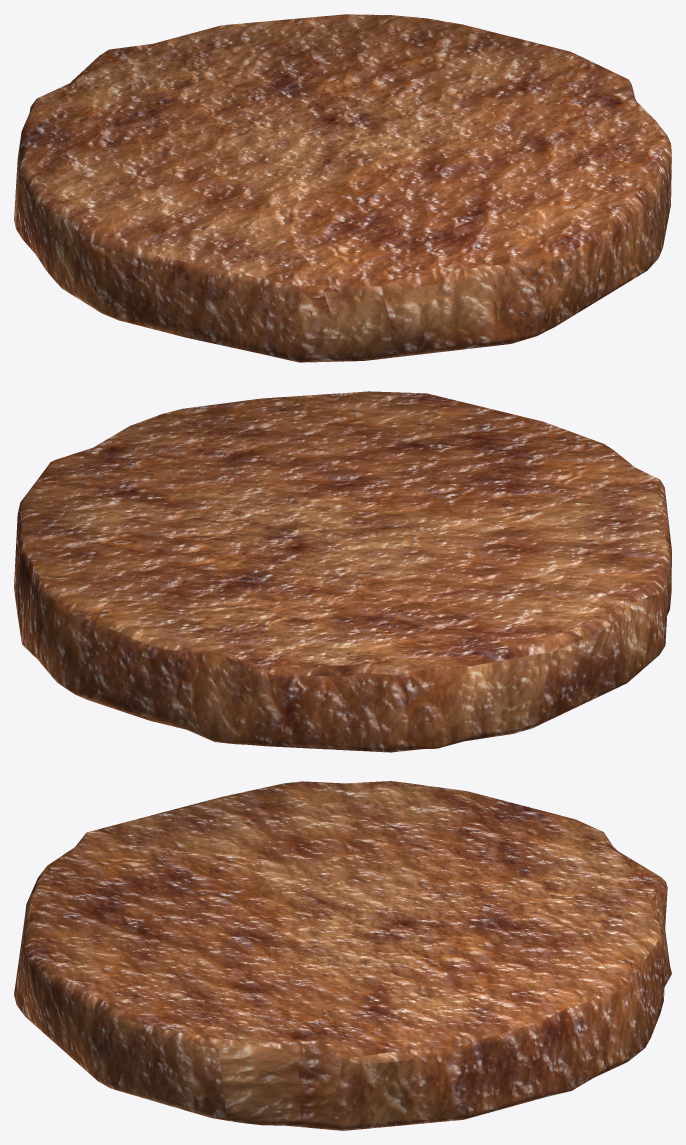
File: hamburguesa_carne.fbx
3 views of the same model, one above another, from view 1: azimuth 30°, elevation 25°; view 2: azimuth 150°, elevation 25°; view 3: azimuth 270°, elevation 25° (orthographic). The views are drawn at different scales.
Parts seen in each view (by area): view 1: Carne; view 2: Carne; view 3: Carne.
Part boxes in pixels (x1,y1,x2,y2): Carne: (14,14,671,362); Carne: (14,391,671,752); Carne: (14,781,671,1130).
Size of the model in its own units: 252 by 34.46 by 252.
Materials: 1 (1 with a texture image).
